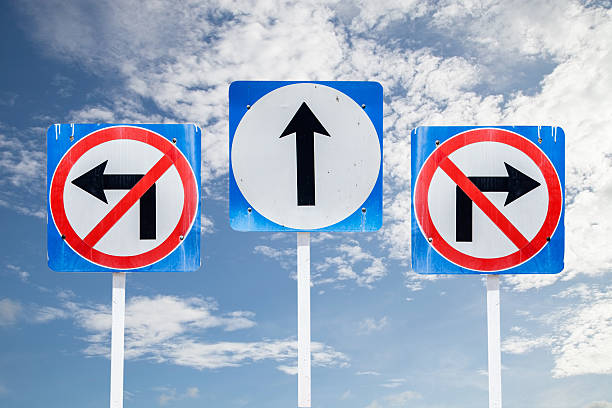saga_girilmez: (417, 122, 567, 271)
sola_girilmez: (41, 125, 202, 274)
